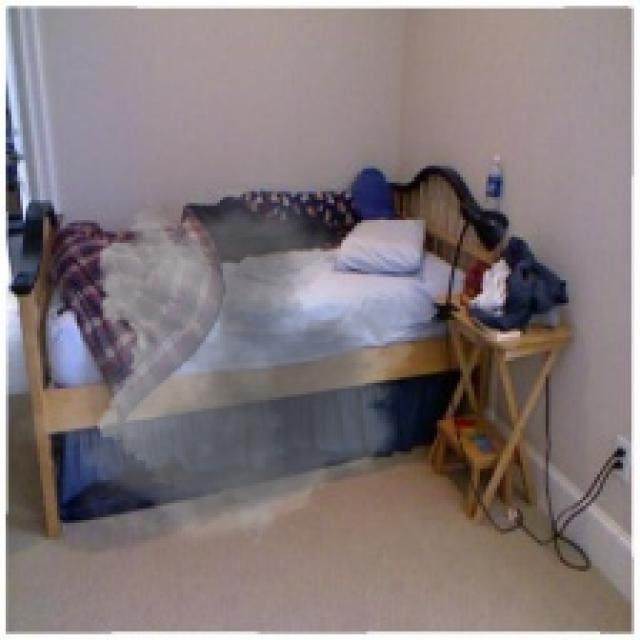smoke: (12, 186, 437, 557)
